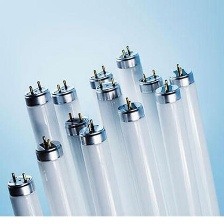light_bulb: (113, 44, 192, 223), (88, 65, 159, 223), (92, 77, 159, 224), (50, 79, 115, 224), (19, 77, 83, 224), (165, 60, 222, 224), (134, 68, 187, 224), (150, 77, 201, 224), (114, 95, 168, 224), (62, 110, 122, 224), (61, 106, 113, 224), (30, 133, 83, 221), (6, 168, 49, 224)
